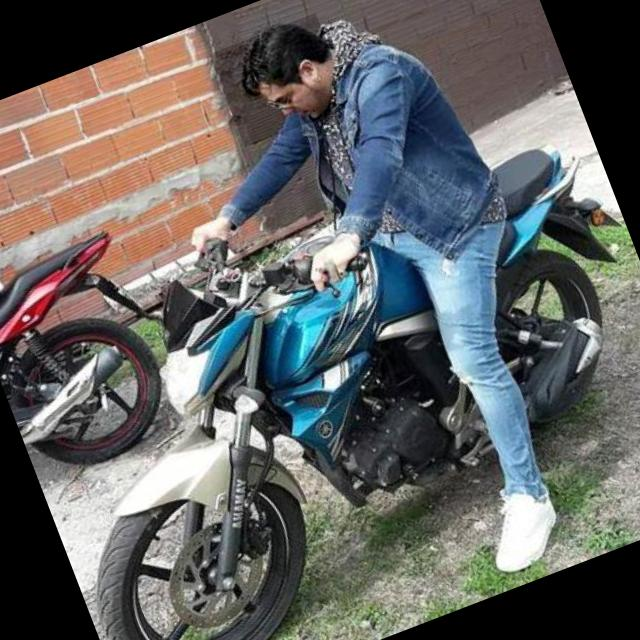without helmet: (210, 13, 352, 147)
